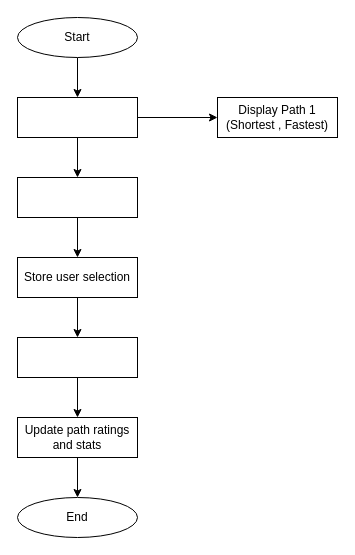
Some shapes in this 355 by 555 pixel diagram are drawn without their labels. Here are the shapes that lost their labels. From the top down, the centre of each, then its label:
At [77,117]: "User enters point A and B".
At [77,197]: "Display Path 2 (Scenic)".
At [77,357]: "Collect user feedback and travel time".
